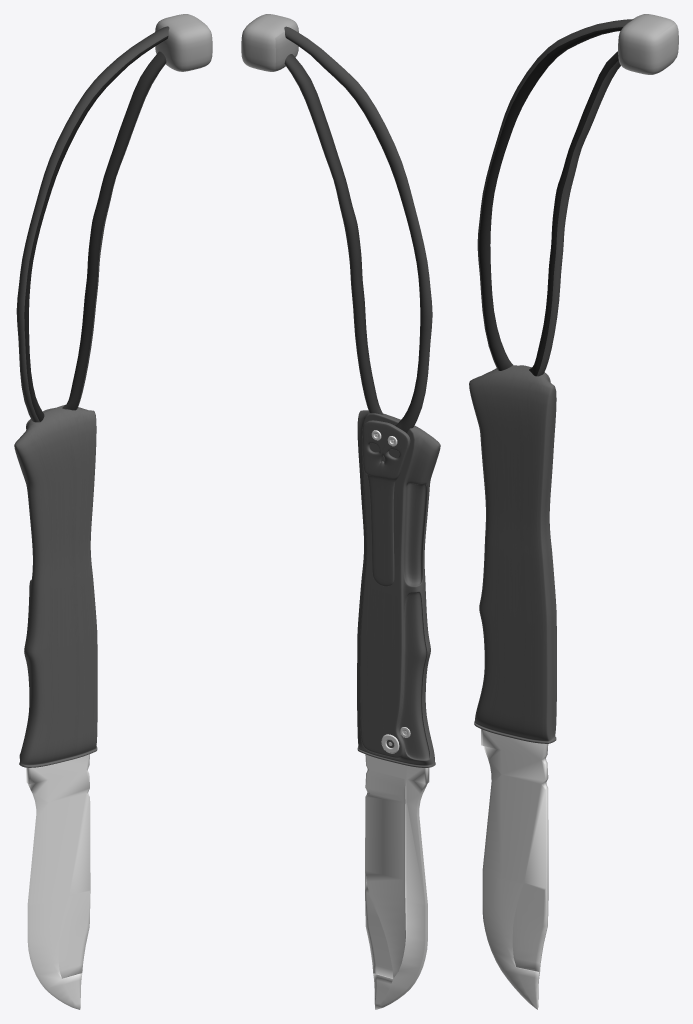
The model's file is knifependant.glb.
3 views of the same model, side by side, from view 1: azimuth 30°, elevation 25°; view 2: azimuth 150°, elevation 25°; view 3: azimuth 330°, elevation 25° (orthographic). The views are drawn at different scales.
Visible parts, largest first — view 1: teeth.001; view 2: teeth.001; view 3: teeth.001.
Part boxes in pixels (<box>): teeth.001: <box>14,14,212,1009</box>; teeth.001: <box>241,14,440,1009</box>; teeth.001: <box>469,14,678,1009</box>.
Bounding box in the file's own units: 0.1361 × 0.6595 × 0.0346.
Materials: 3 (2 with a texture image).
